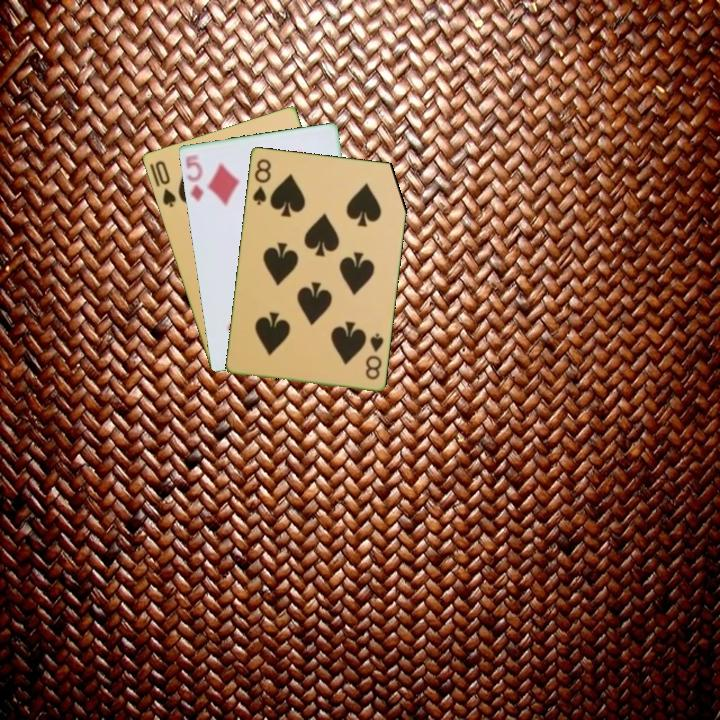10s: (151, 157, 179, 210)
5d: (182, 150, 206, 204)
8s: (249, 155, 274, 207), (362, 329, 386, 382)
